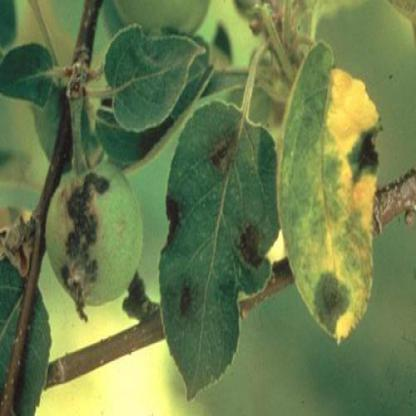apple scab leaf: (158, 91, 283, 415), (275, 37, 383, 352)
